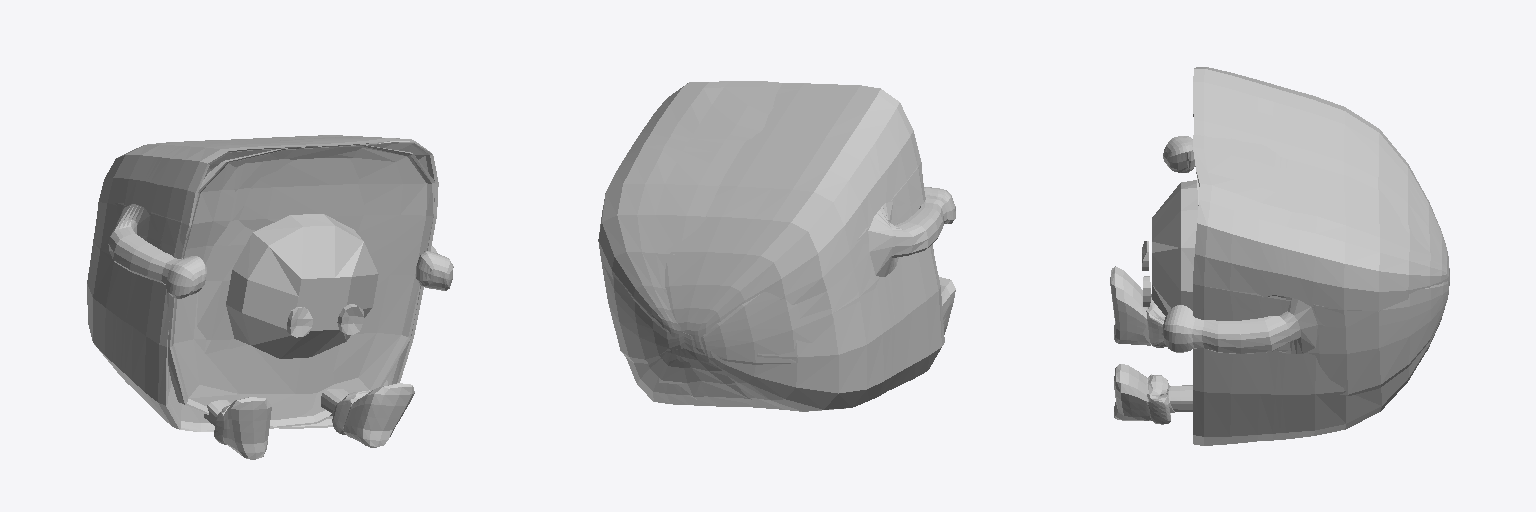
File: Pal_000018.obj
3 views of the same model, side by side, from view 1: azimuth 30°, elevation 25°; view 2: azimuth 150°, elevation 25°; view 3: azimuth 270°, elevation 25° (orthographic).
Visible parts, largest first — view 1: Cuerpo_de_aguacate_3.001_Cube.002, Hueso_Cubo.003, Ojos_Cubo.002; view 2: Cuerpo_de_aguacate_3.001_Cube.002; view 3: Cuerpo_de_aguacate_3.001_Cube.002, Hueso_Cubo.003.
Boxes of the visible parts, x1,y1,x2,y2 form: Cuerpo_de_aguacate_3.001_Cube.002: [87, 135, 453, 459]; Hueso_Cubo.003: [226, 214, 378, 358]; Ojos_Cubo.002: [287, 304, 363, 337]; Cuerpo_de_aguacate_3.001_Cube.002: [598, 81, 955, 411]; Cuerpo_de_aguacate_3.001_Cube.002: [1110, 67, 1449, 445]; Hueso_Cubo.003: [1152, 180, 1197, 315].
Bounding box in the file's own units: 1.04 × 1 × 1.01.